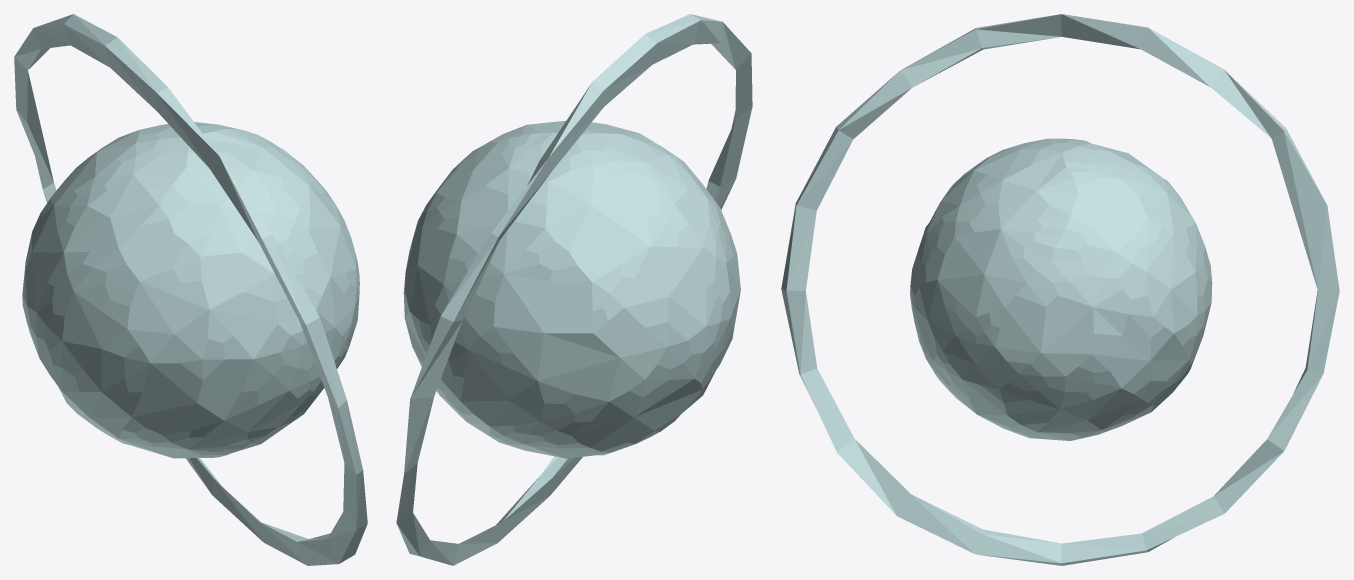
The model's file is Uranus.fbx.
3 renders of one model, left to right at view 1: azimuth 30°, elevation 25°; view 2: azimuth 150°, elevation 25°; view 3: azimuth 270°, elevation 25°, orthographic. The views are drawn at different scales.
Parts seen in each view (by area): view 1: Uranus, pPipe5; view 2: Uranus, pPipe5; view 3: Uranus, pPipe5.
Boxes of the visible parts, x1,y1,x2,y2 form: Uranus: [22, 122, 359, 458]; pPipe5: [14, 14, 367, 565]; Uranus: [403, 120, 740, 458]; pPipe5: [396, 14, 752, 565]; Uranus: [910, 138, 1212, 440]; pPipe5: [781, 14, 1339, 565].
Bounding box in the file's own units: 4.89 × 8.71 × 9.04.
